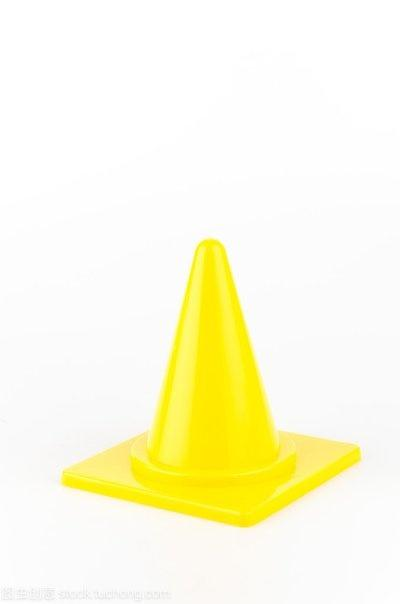cone_barrel: (132, 237, 306, 495)
